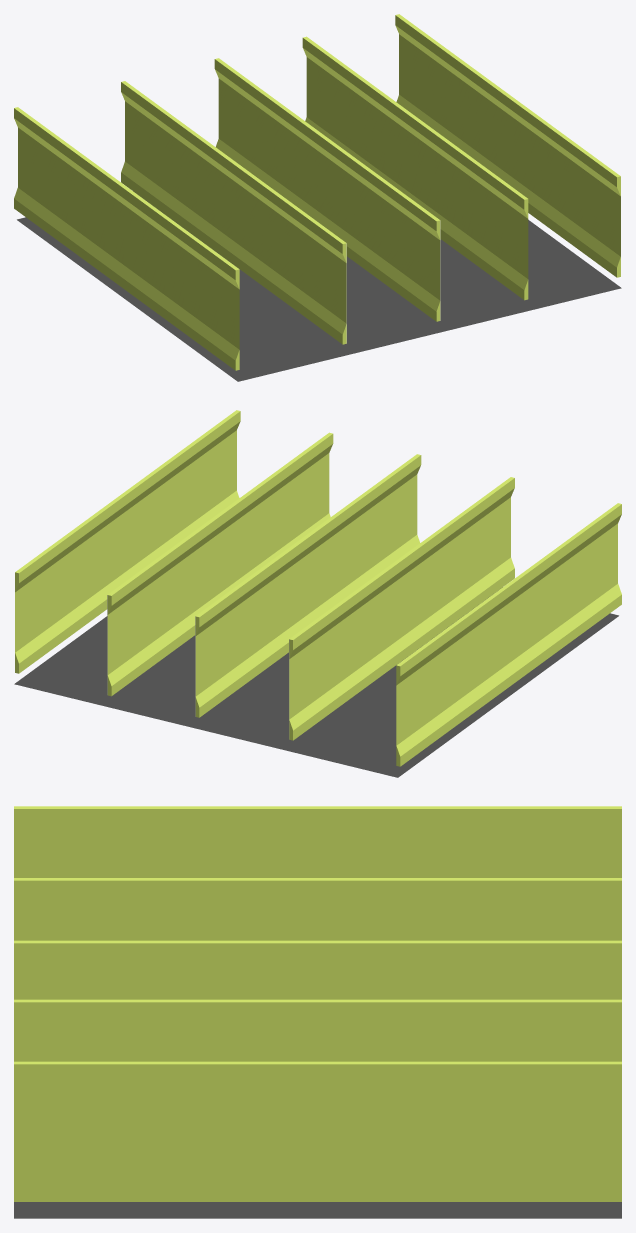
Rendered from Fall.dae.
The picture shows the model from 3 angles, top to bottom: view 1: azimuth 30°, elevation 25°; view 2: azimuth 150°, elevation 25°; view 3: azimuth 270°, elevation 25°; orthographic projection. The views are drawn at different scales.
Visible parts, largest first — view 1: node_b96dc3f7_5d86_463d_b798_85f694f18001_mesh2, node_b96dc3f7_5d86_463d_b798_85f694f18001_mesh5, node_b96dc3f7_5d86_463d_b798_85f694f18001_mesh1, node_b96dc3f7_5d86_463d_b798_85f694f18001_mesh3, node_b96dc3f7_5d86_463d_b798_85f694f18001_mesh4, node_b96dc3f7_5d86_463d_b798_85f694f18001_mesh0; view 2: node_b96dc3f7_5d86_463d_b798_85f694f18001_mesh2, node_b96dc3f7_5d86_463d_b798_85f694f18001_mesh5, node_b96dc3f7_5d86_463d_b798_85f694f18001_mesh1, node_b96dc3f7_5d86_463d_b798_85f694f18001_mesh3, node_b96dc3f7_5d86_463d_b798_85f694f18001_mesh4, node_b96dc3f7_5d86_463d_b798_85f694f18001_mesh0; view 3: node_b96dc3f7_5d86_463d_b798_85f694f18001_mesh4, node_b96dc3f7_5d86_463d_b798_85f694f18001_mesh2, node_b96dc3f7_5d86_463d_b798_85f694f18001_mesh0, node_b96dc3f7_5d86_463d_b798_85f694f18001_mesh5, node_b96dc3f7_5d86_463d_b798_85f694f18001_mesh3, node_b96dc3f7_5d86_463d_b798_85f694f18001_mesh1.
Part boxes in pixels (box(x1,y1,x2,y2)): node_b96dc3f7_5d86_463d_b798_85f694f18001_mesh2: box(14, 107, 239, 370); node_b96dc3f7_5d86_463d_b798_85f694f18001_mesh5: box(121, 81, 346, 344); node_b96dc3f7_5d86_463d_b798_85f694f18001_mesh1: box(17, 191, 621, 381); node_b96dc3f7_5d86_463d_b798_85f694f18001_mesh3: box(214, 58, 440, 321); node_b96dc3f7_5d86_463d_b798_85f694f18001_mesh4: box(395, 14, 620, 277); node_b96dc3f7_5d86_463d_b798_85f694f18001_mesh0: box(302, 36, 528, 300); node_b96dc3f7_5d86_463d_b798_85f694f18001_mesh2: box(396, 503, 621, 766); node_b96dc3f7_5d86_463d_b798_85f694f18001_mesh5: box(289, 477, 514, 740); node_b96dc3f7_5d86_463d_b798_85f694f18001_mesh1: box(14, 587, 618, 777); node_b96dc3f7_5d86_463d_b798_85f694f18001_mesh3: box(195, 454, 421, 717); node_b96dc3f7_5d86_463d_b798_85f694f18001_mesh4: box(15, 410, 240, 673); node_b96dc3f7_5d86_463d_b798_85f694f18001_mesh0: box(107, 432, 333, 696); node_b96dc3f7_5d86_463d_b798_85f694f18001_mesh4: box(14, 1061, 621, 1201); node_b96dc3f7_5d86_463d_b798_85f694f18001_mesh2: box(14, 806, 621, 877); node_b96dc3f7_5d86_463d_b798_85f694f18001_mesh0: box(14, 999, 621, 1061); node_b96dc3f7_5d86_463d_b798_85f694f18001_mesh5: box(14, 878, 621, 940); node_b96dc3f7_5d86_463d_b798_85f694f18001_mesh3: box(14, 940, 621, 999); node_b96dc3f7_5d86_463d_b798_85f694f18001_mesh1: box(14, 1202, 621, 1218).
Size of the model in its own units: 5030 by 1395 by 5000.
